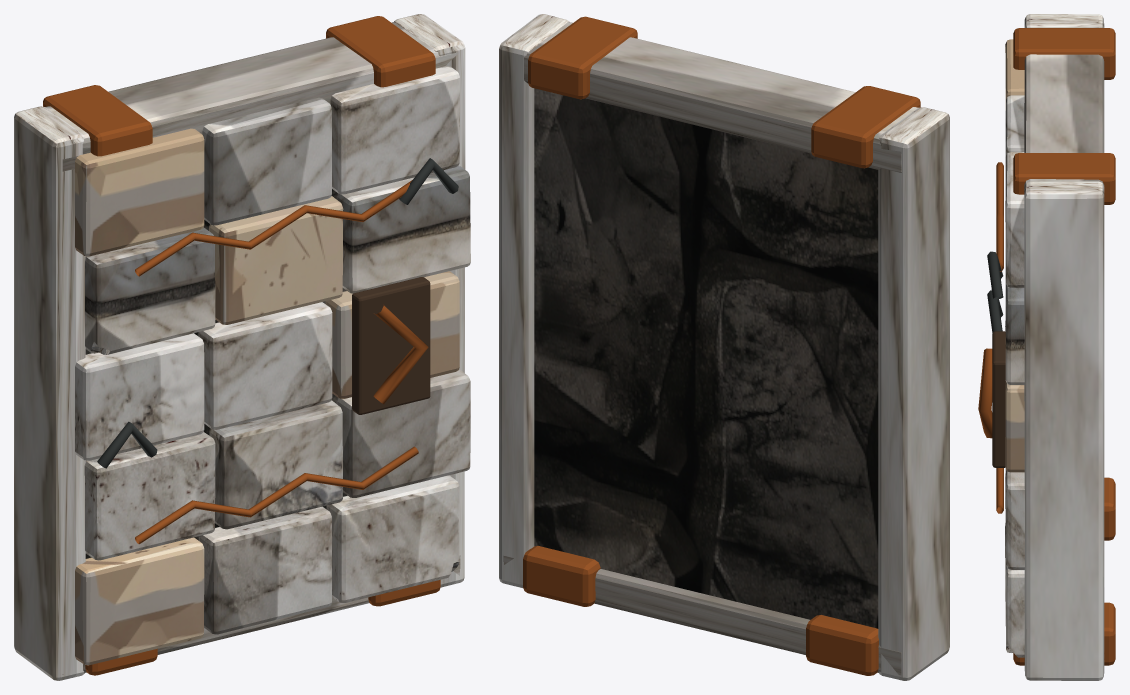
Rendered from door_stone_sliding_LOD0.glb.
The picture shows the model from 3 angles, left to right: view 1: azimuth 30°, elevation 25°; view 2: azimuth 150°, elevation 25°; view 3: azimuth 270°, elevation 25°; orthographic projection. The views are drawn at different scales.
Visible parts, largest first — view 1: StoneDoorEdge, StoneDoorEdge.003, SlidingDoorFaceStone, SlidingDoorFaceStone.007, SlidingDoorFaceStone.013, SlidingDoorFaceStone.001, SlidingDoorFaceStone.002, SlidingDoorFaceStone.012, SlidingDoorFaceStone.006, SlidingDoorFaceStone.014, SlidingDoorFaceStone.009, SlidingDoorFaceStone.003 (+17 smaller); view 2: StoneDoorHeart, StoneDoorEdge, StoneDoorEdge.001, StoneDoorEdge.003, StoneDoorEdge.002, StoneDoorTopGuide, StoneDoorTopGuide.001, StoneDoorGuideShoe.001, StoneDoorGuideShoe; view 3: StoneDoorEdge.001, StoneDoorEdge.003, StoneDoorTopGuide, StoneDoorTopGuide.001, SlidingDoorFaceStone.014, SlidingDoorFaceStone.011, StoneDoorPullRecess, SlidingDoorFaceStone.005, SlidingDoorFaceStone.008, SlidingDoorFaceStone.002, SlidingDoorFaceStone.013, StoneDoorEdge (+8 smaller).
Boxes of the visible parts, bbox=[...] form: StoneDoorEdge: bbox=[14, 106, 85, 680]; StoneDoorEdge.003: bbox=[45, 22, 458, 171]; SlidingDoorFaceStone: bbox=[75, 537, 204, 665]; SlidingDoorFaceStone.007: bbox=[198, 302, 332, 429]; SlidingDoorFaceStone.013: bbox=[202, 97, 331, 225]; SlidingDoorFaceStone.001: bbox=[198, 506, 331, 634]; SlidingDoorFaceStone.002: bbox=[326, 475, 459, 602]; SlidingDoorFaceStone.012: bbox=[75, 128, 204, 256]; SlidingDoorFaceStone.006: bbox=[75, 333, 204, 460]; SlidingDoorFaceStone.014: bbox=[330, 66, 459, 194]; SlidingDoorFaceStone.009: bbox=[85, 227, 215, 354]; SlidingDoorFaceStone.003: bbox=[84, 432, 215, 560]; StoneDoorHeart: bbox=[534, 88, 878, 628]; StoneDoorEdge: bbox=[878, 107, 949, 680]; StoneDoorEdge.001: bbox=[499, 14, 569, 587]; StoneDoorEdge.003: bbox=[524, 22, 918, 172]; StoneDoorEdge.002: bbox=[503, 555, 901, 675]; StoneDoorTopGuide: bbox=[811, 86, 920, 168]; StoneDoorTopGuide.001: bbox=[528, 16, 637, 99]; StoneDoorGuideShoe.001: bbox=[523, 545, 600, 606]; StoneDoorGuideShoe: bbox=[806, 615, 878, 675]; StoneDoorEdge.001: bbox=[1024, 181, 1104, 680]; StoneDoorEdge.003: bbox=[1024, 27, 1104, 186]; StoneDoorTopGuide: bbox=[1013, 28, 1115, 79]; StoneDoorTopGuide.001: bbox=[1013, 153, 1115, 204]; SlidingDoorFaceStone.014: bbox=[1005, 152, 1024, 287]; SlidingDoorFaceStone.011: bbox=[1005, 283, 1024, 384]; StoneDoorPullRecess: bbox=[992, 331, 1005, 467]; SlidingDoorFaceStone.005: bbox=[1005, 469, 1024, 569]; SlidingDoorFaceStone.008: bbox=[1005, 381, 1024, 472]; SlidingDoorFaceStone.002: bbox=[1005, 524, 1024, 657]; SlidingDoorFaceStone.013: bbox=[1005, 95, 1024, 156]; StoneDoorEdge: bbox=[1024, 14, 1104, 27].
Size of the model in its own units: 2.27 by 2.86 by 0.7247.
Materials: 6 (3 with a texture image).
